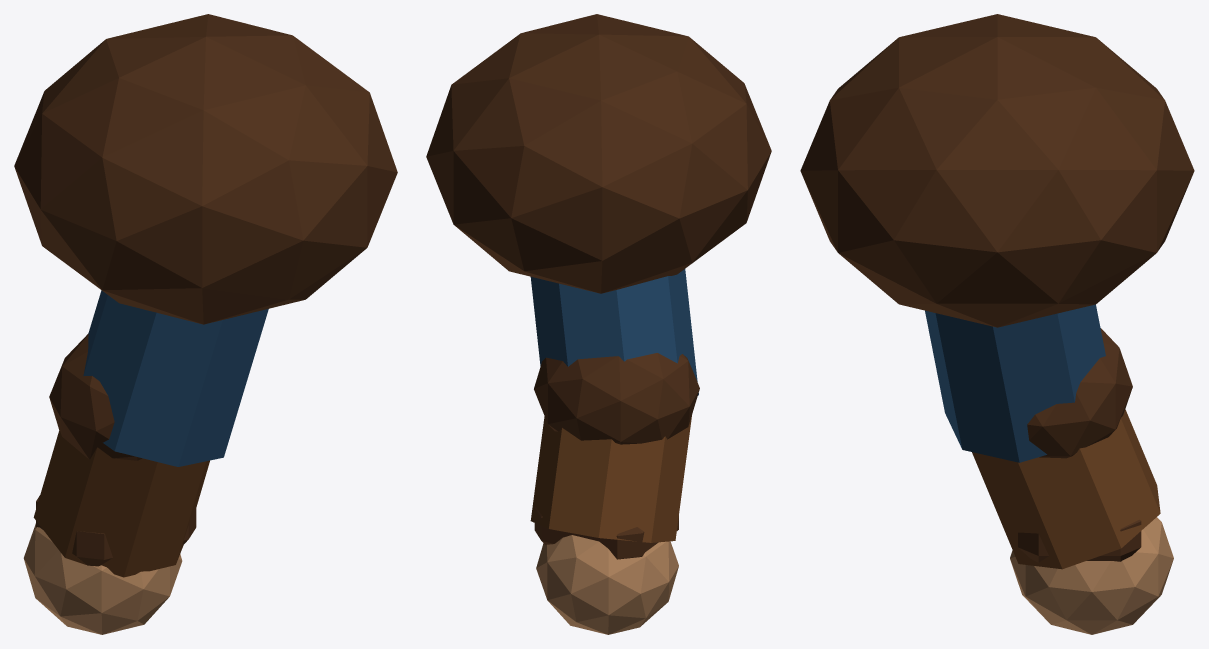
Rendered from ArmLeft.glb.
The picture shows the model from 3 angles, left to right: view 1: azimuth 30°, elevation 25°; view 2: azimuth 150°, elevation 25°; view 3: azimuth 270°, elevation 25°; orthographic projection. The views are drawn at different scales.
Visible parts, largest first — view 1: Sculpture; view 2: Sculpture; view 3: Sculpture.
Boxes of the visible parts, x1=… form: Sculpture: x1=14, y1=14, x2=397, y2=634; Sculpture: x1=426, y1=14, x2=771, y2=634; Sculpture: x1=800, y1=14, x2=1194, y2=634.
Size of the model in its own units: 0.47 by 0.831 by 0.48.
